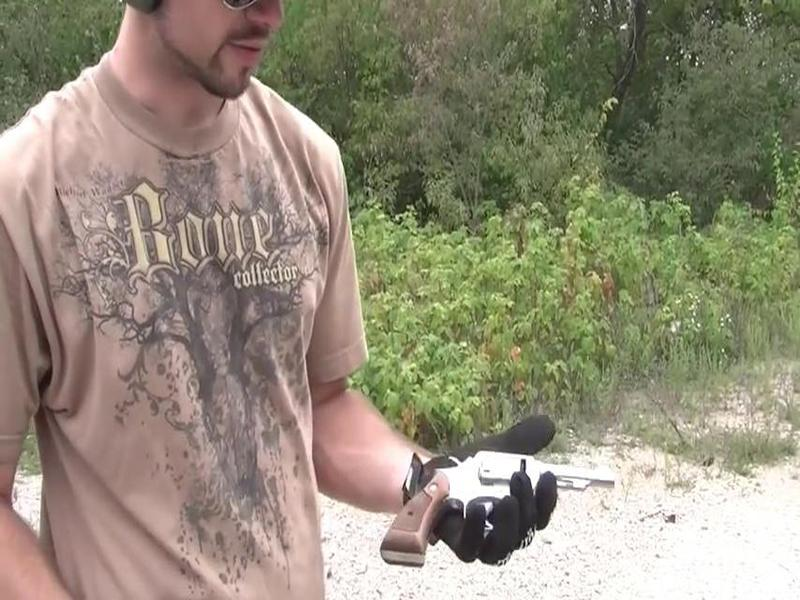Revolver: (356, 436, 622, 577)
